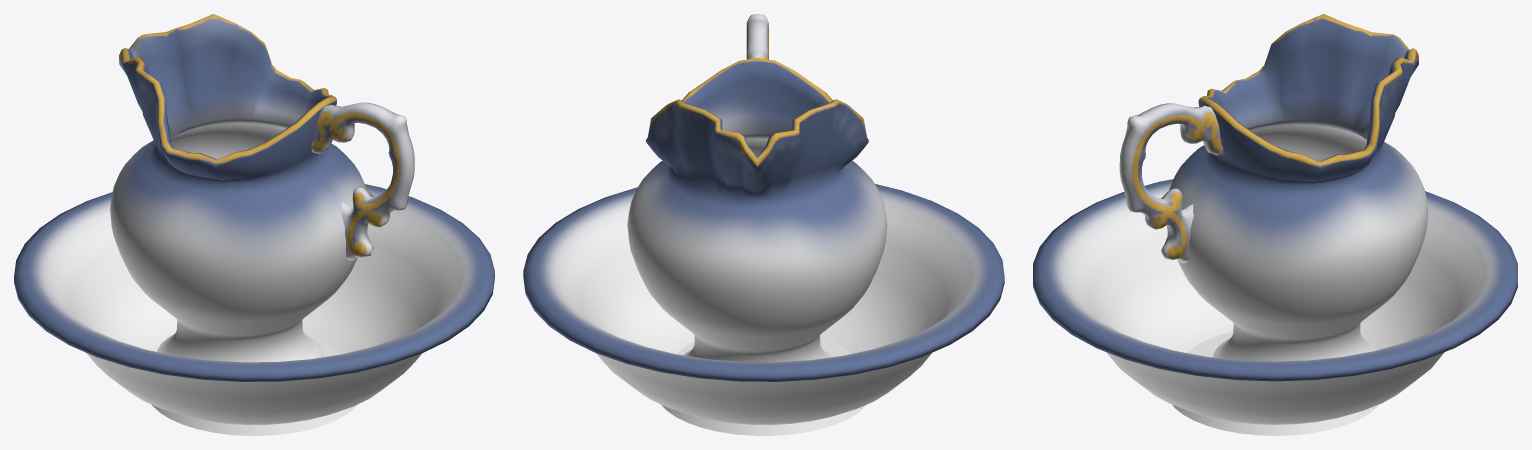
Rendered from washbasin_2.FBX.
3 views of the same model, side by side, from view 1: azimuth 30°, elevation 25°; view 2: azimuth 150°, elevation 25°; view 3: azimuth 270°, elevation 25° (orthographic).
Visible parts, largest first — view 1: jug, bowl; view 2: jug, bowl; view 3: jug, bowl.
Part boxes in pixels (<box>): jug: <box>110,14,414,362</box>; bowl: <box>14,184,494,435</box>; jug: <box>627,14,887,362</box>; bowl: <box>523,184,1004,435</box>; jug: <box>1119,14,1428,361</box>; bowl: <box>1033,179,1517,435</box>.
Size of the model in its own units: 0.3079 by 0.2306 by 0.3069.
Materials: 2 (2 with a texture image).
